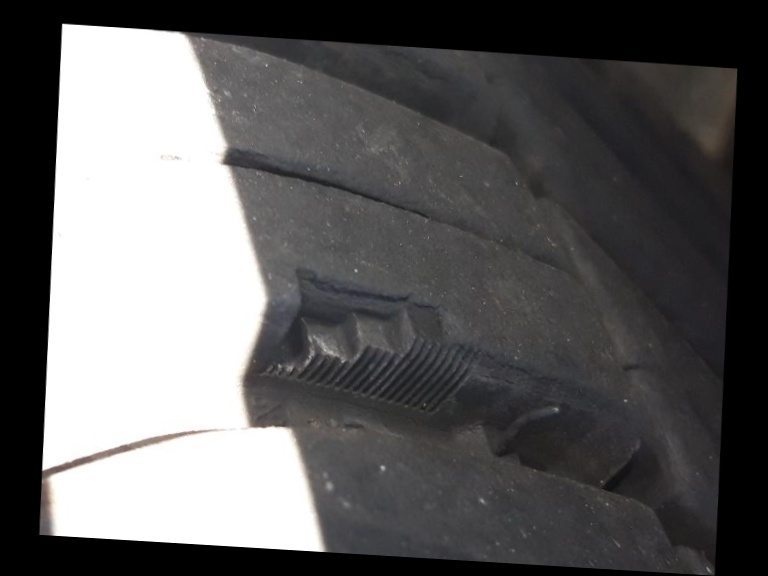temoin:80: (250, 258, 495, 426)
